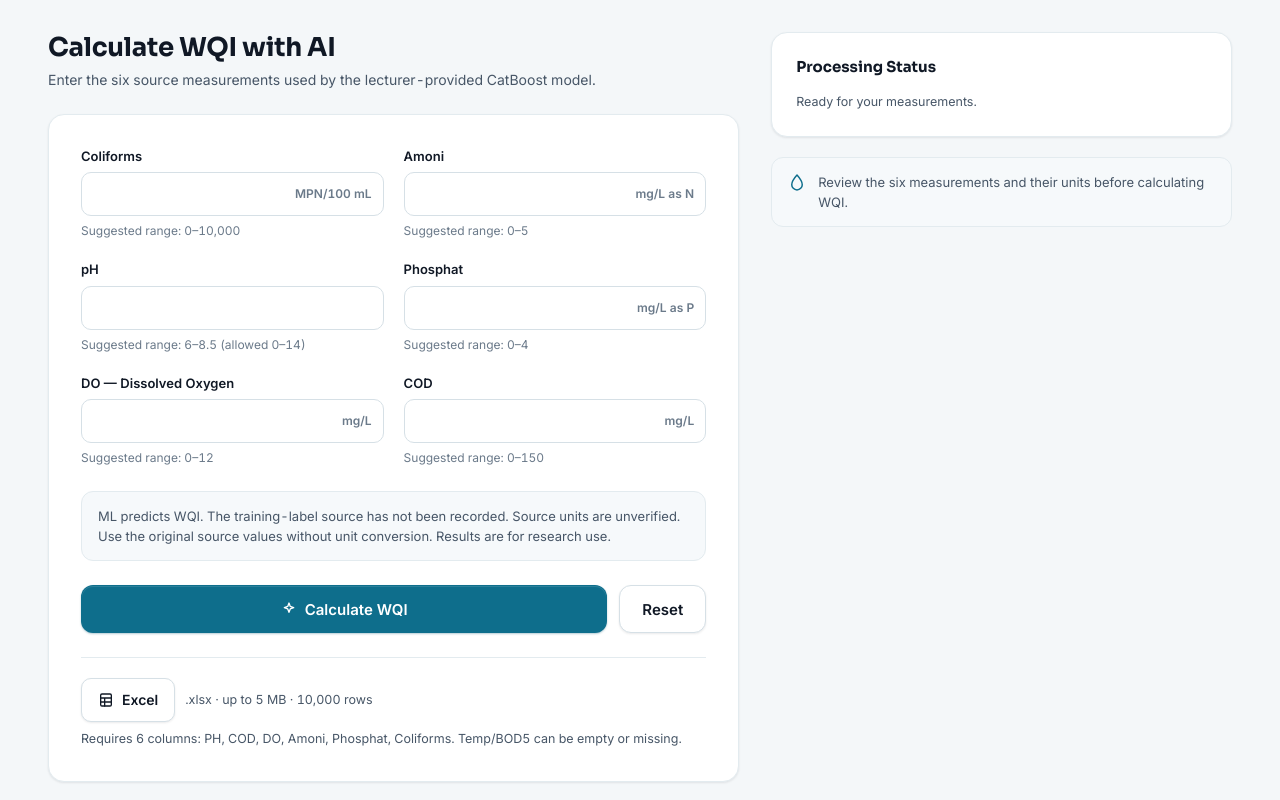
Test case: prediction screens › explains that a WQI outside 0–100 was discarded
This screenshot has width=1280, height=800.
expect the button "Calculate WQI" is enabled: met, box [81,585,607,633]
Type "7.6" into the number field labelled "pH" at (232, 308), box [81,286,384,330]
Type "7.5" into the number field labelled "DO — Dissolved Oxygen" at (232, 421), box [81,399,384,443]
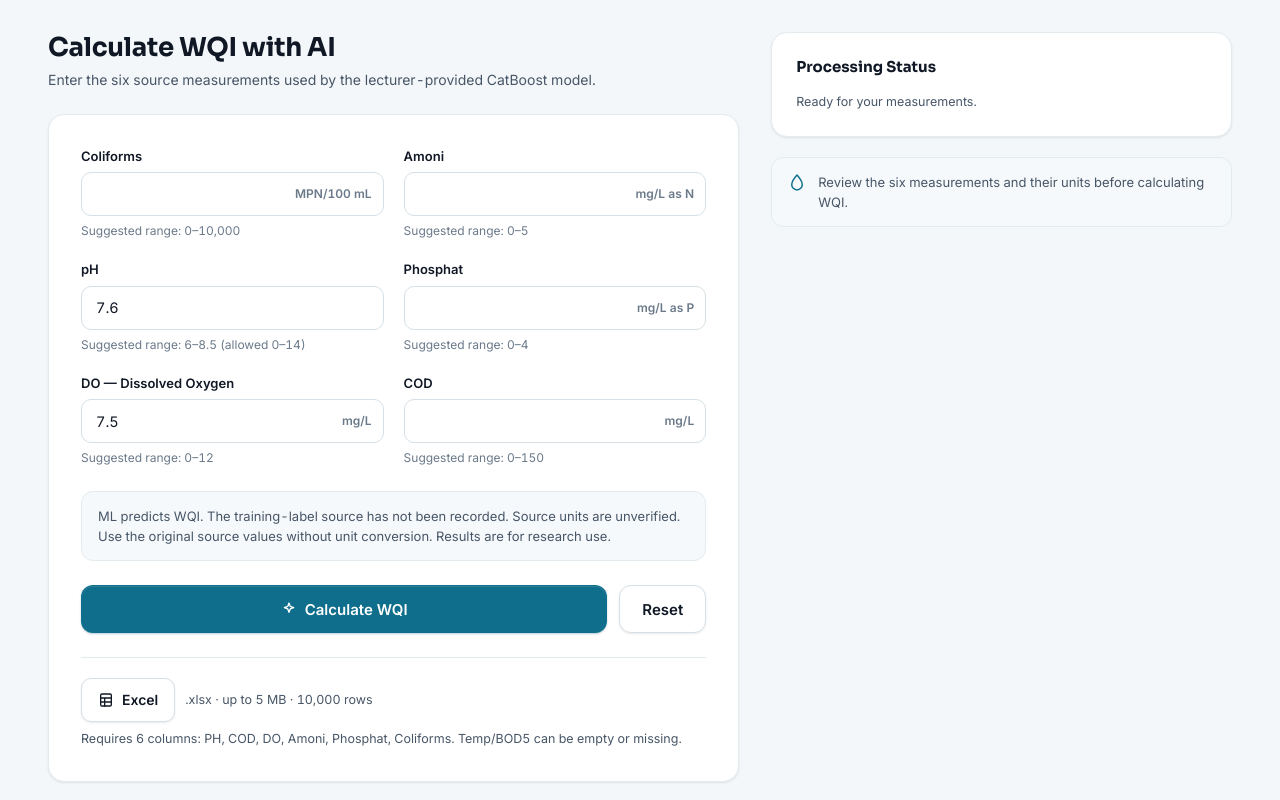
Type "5" into the number field labelled "COD" at (555, 421), box [404,399,706,443]
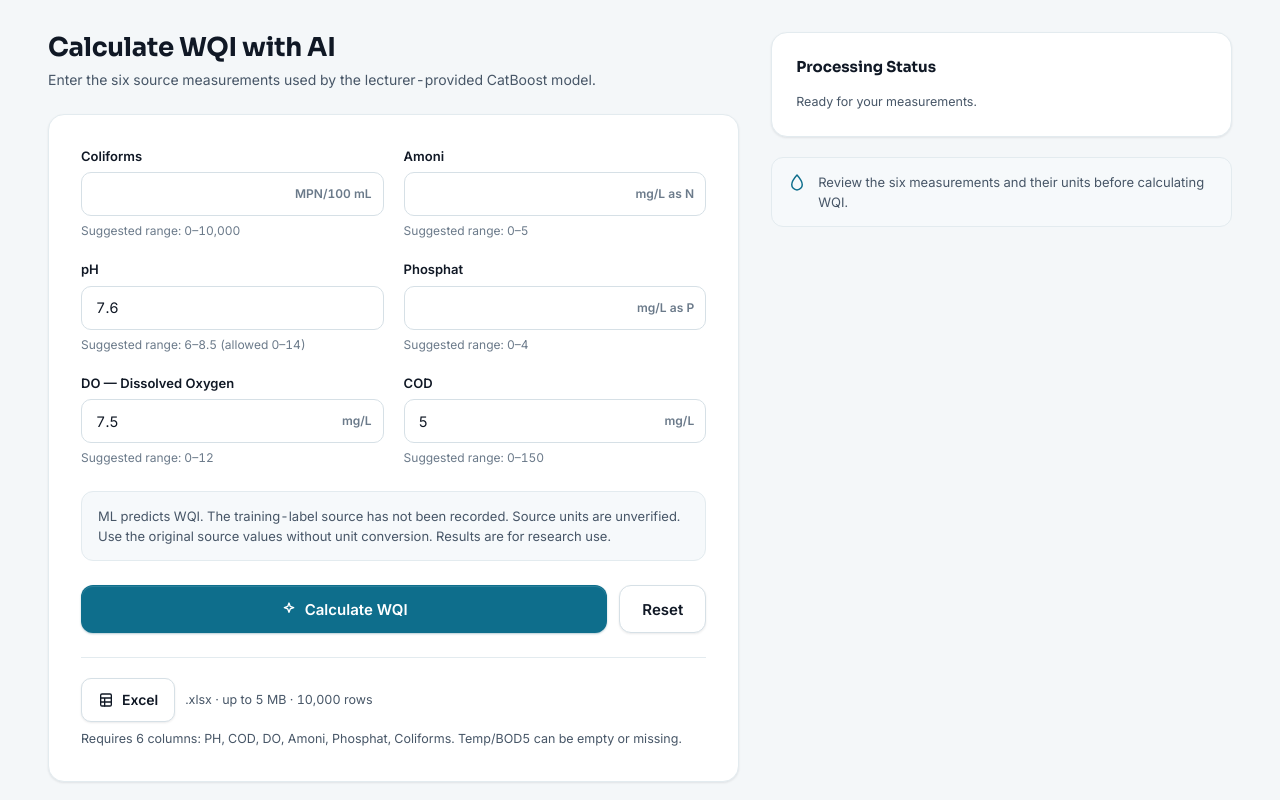
Type "0.01" into the number field labelled "Amoni" at (555, 194), box [404,172,706,216]
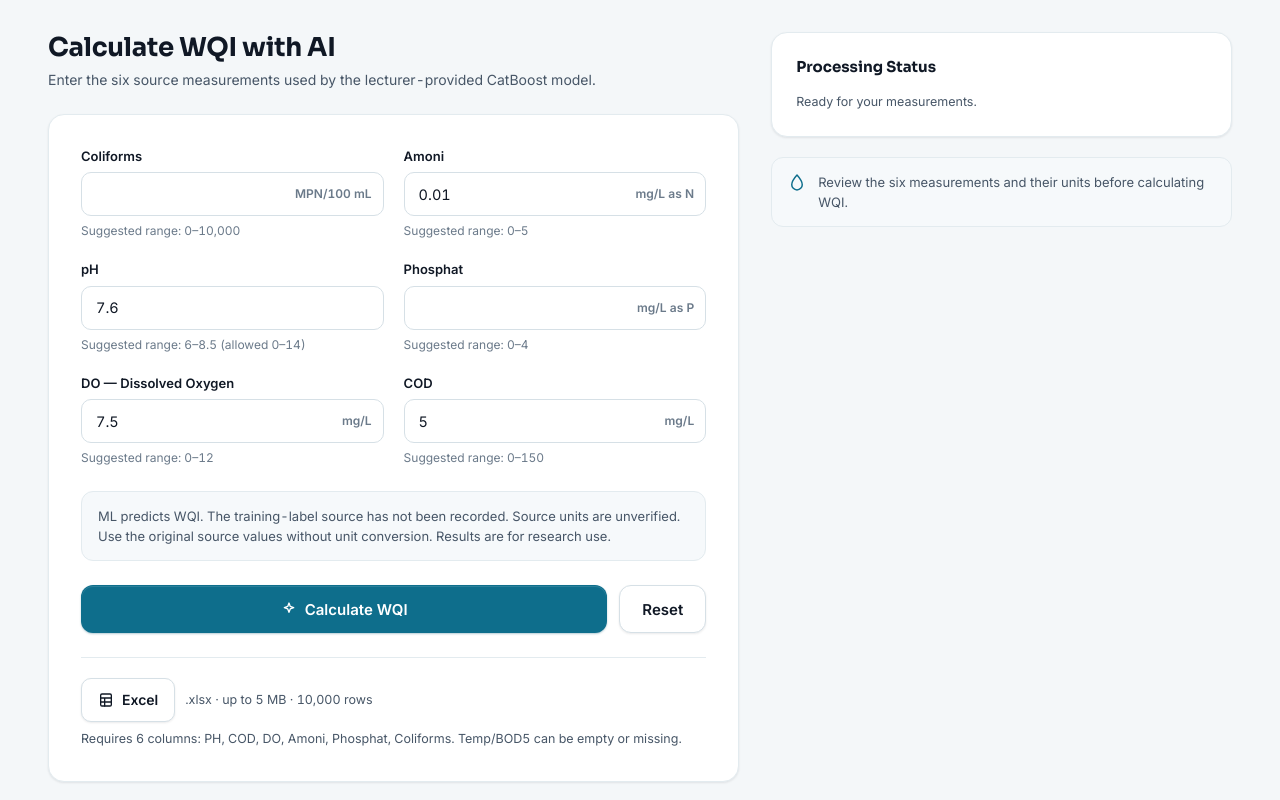
Type "0.005" into the number field labelled "Phosphat" at (555, 308), box [404,286,706,330]
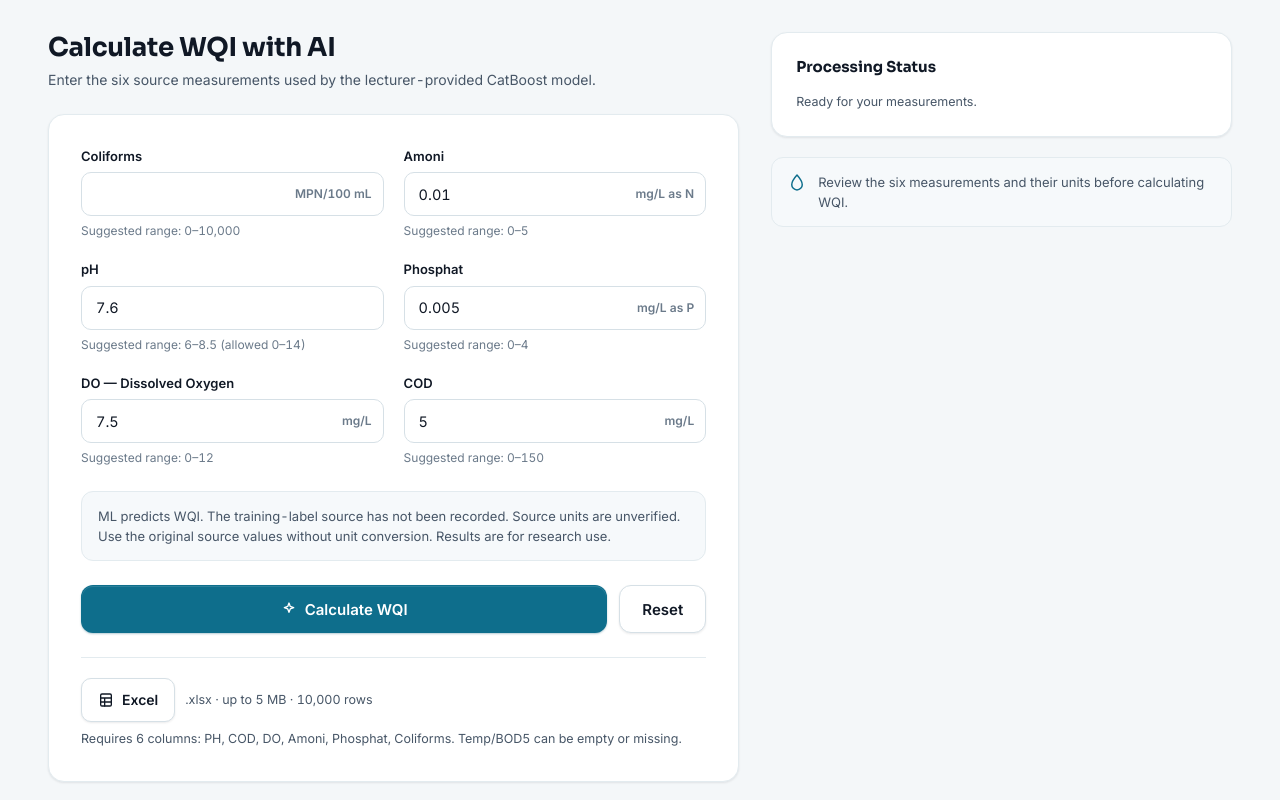
Type "100" into the number field labelled "Coliforms" at (232, 194), box [81,172,384,216]
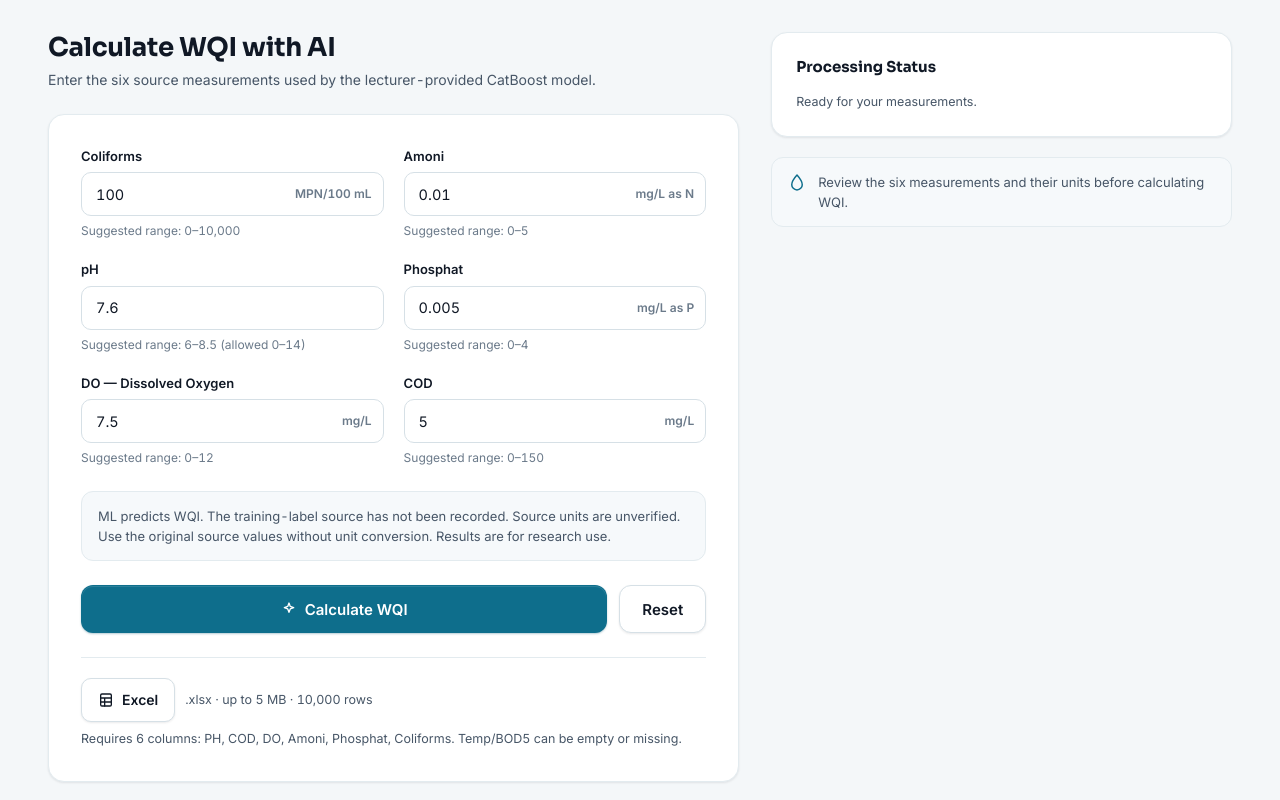
Click the button "Calculate WQI" at (344, 609), box [81,585,607,633]
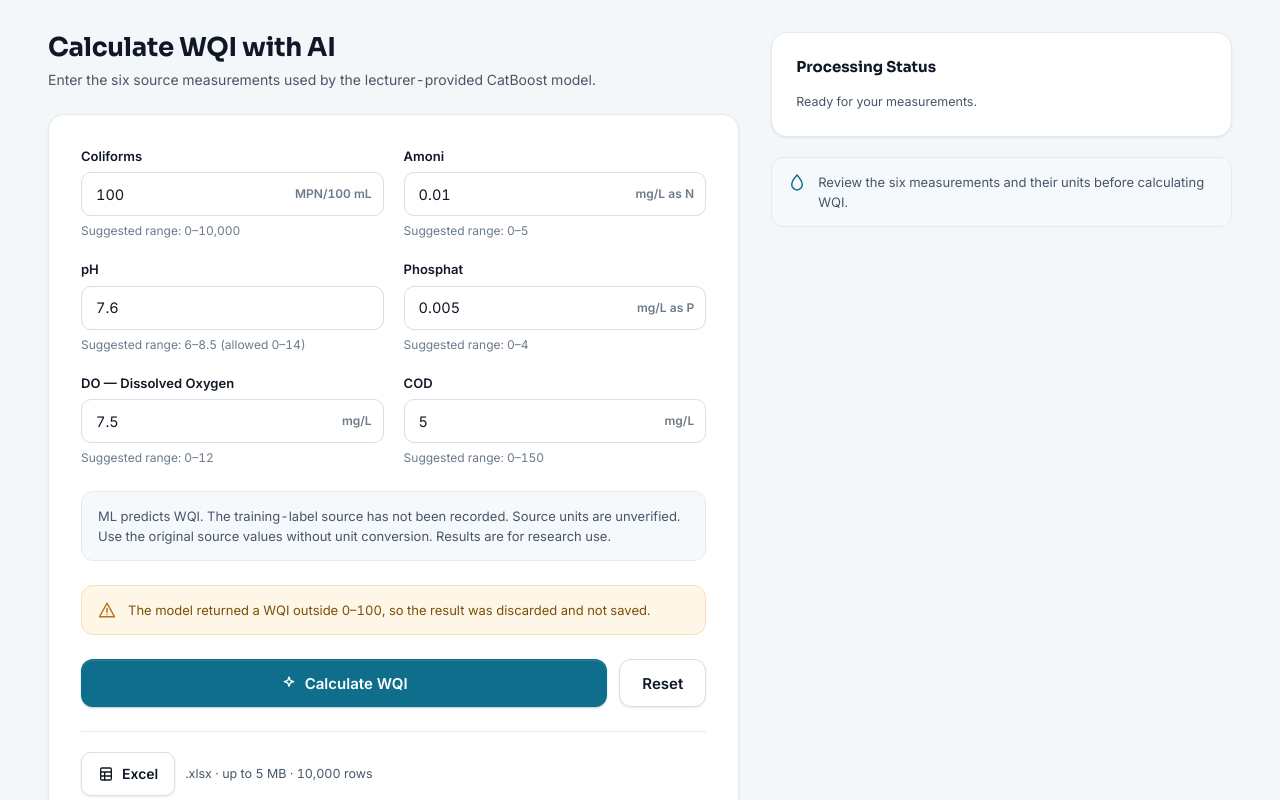
expect the text "The model returned a WQI outside 0–100, so the result was discarded and not saved." is shown: met, box [128,602,650,618]
